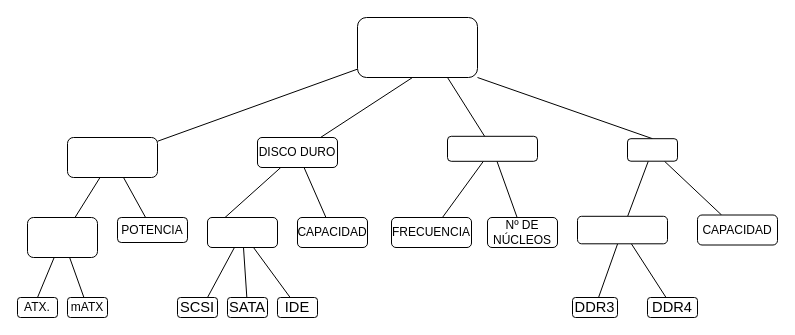
This 795x335 diagram has some shape labels left out. Here are the shapes that lost their labels. From the top down, the centre of each, then its label:
At (x=417, y=47): "EQUIPOS INFORMÁTICOS".
At (x=112, y=157): "FUENTE DE ALIMENTACIÓN".
At (x=492, y=148): "PROCESADOR".
At (x=652, y=149): "RAM".
At (x=62, y=237): "TIPO DE CONECTOR".
At (x=242, y=232): "INTERFAZ DE DATOS".
At (x=622, y=229): "GENERACIÓN".
